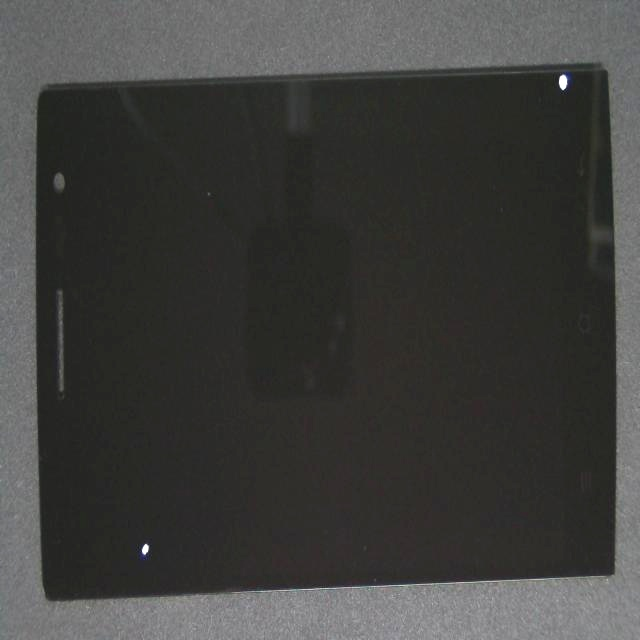stain: (37, 284, 208, 640), (284, 91, 640, 150)
